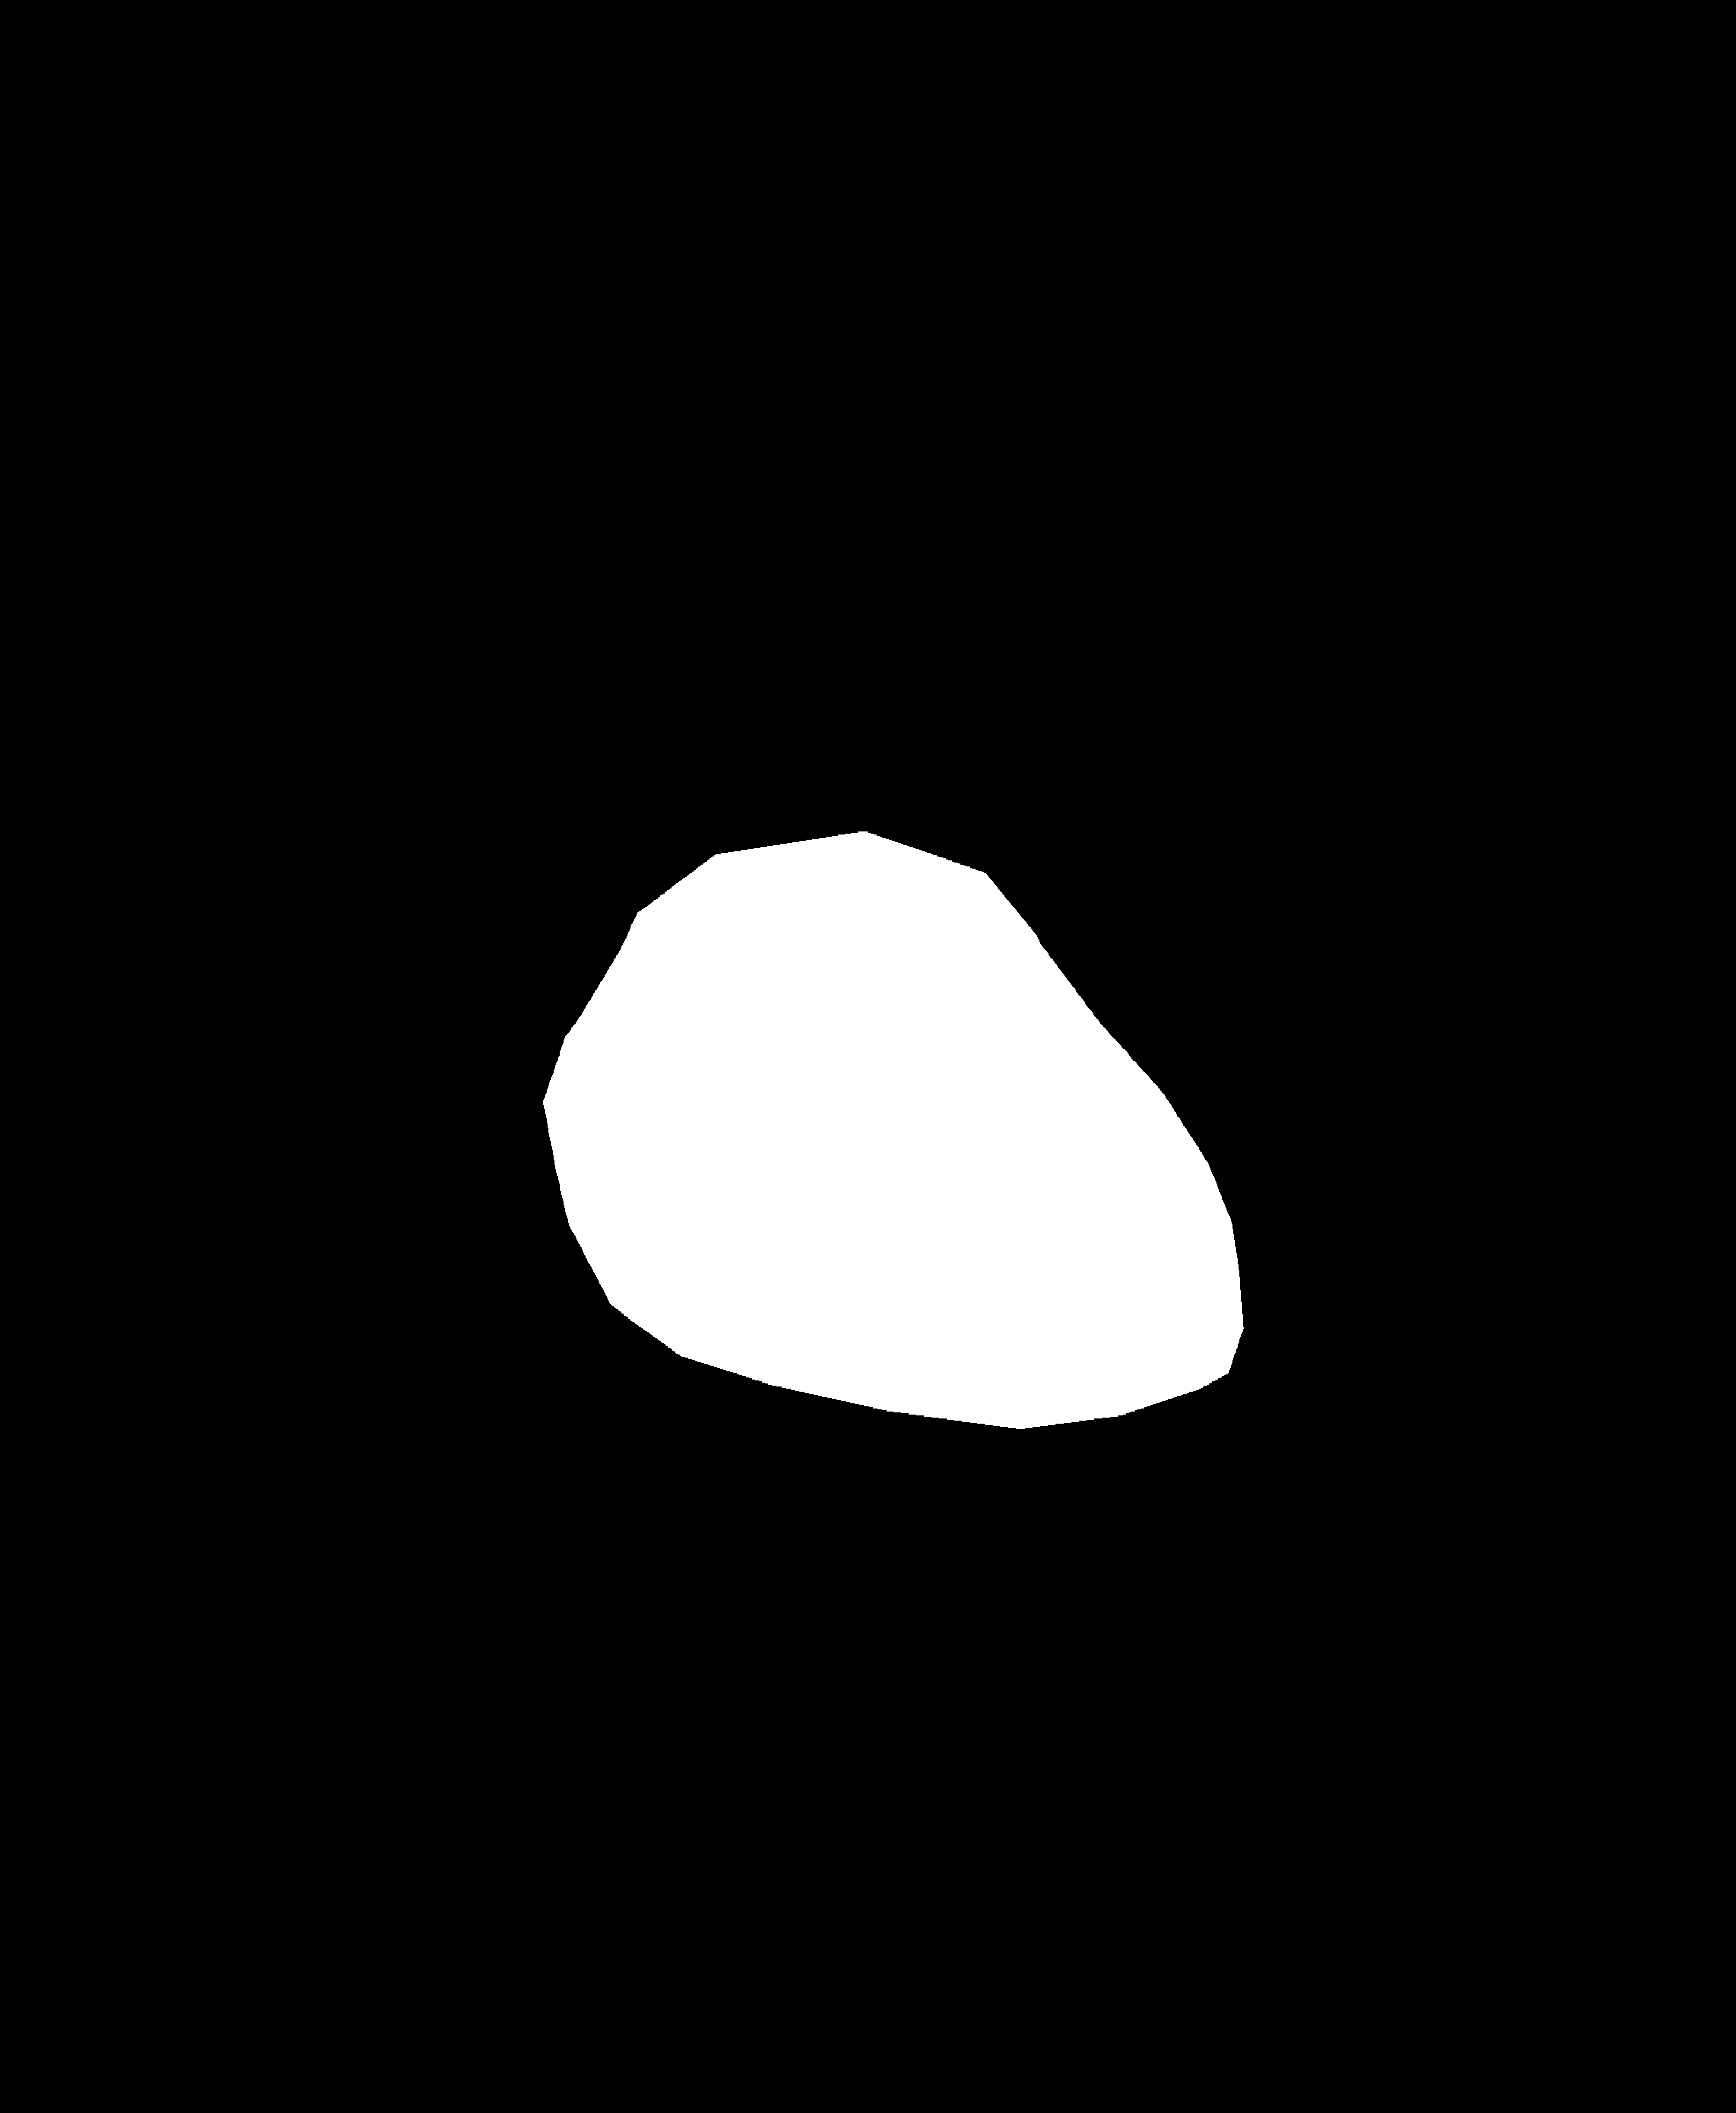heart: (541, 965, 1245, 1374)
left_lung: (56, 184, 730, 1583)
right_lung: (853, 200, 1606, 1569)
